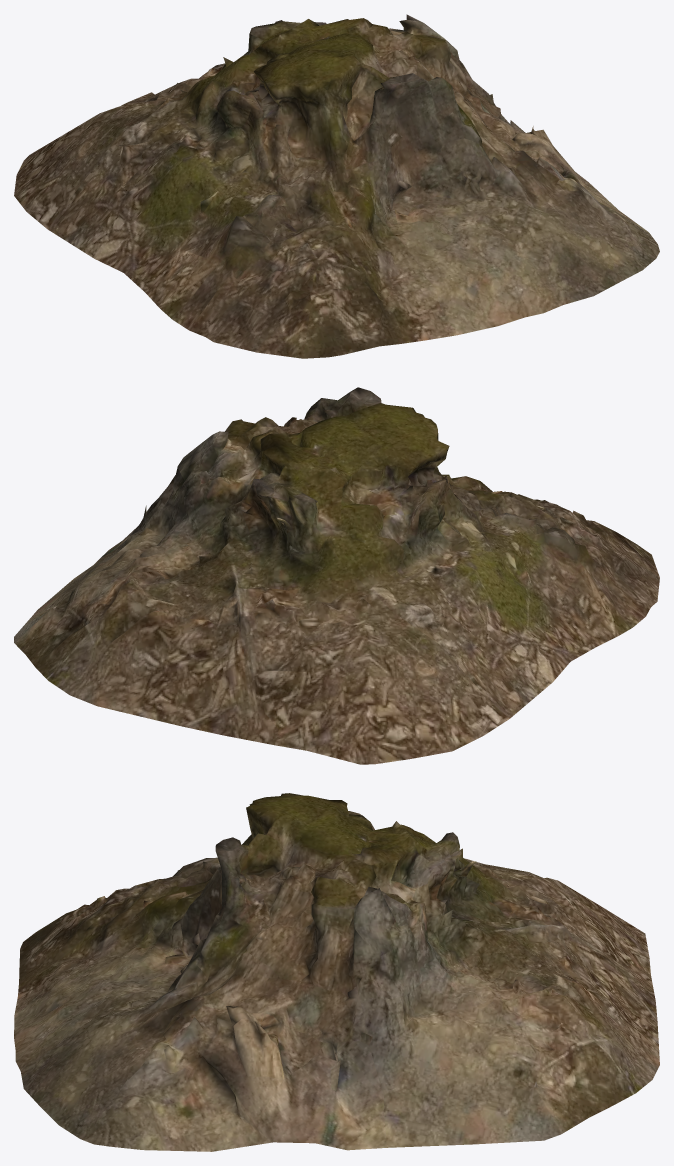
File: tree_stump_01.glb
3 renders of one model, top to bottom at view 1: azimuth 30°, elevation 25°; view 2: azimuth 150°, elevation 25°; view 3: azimuth 270°, elevation 25°, orthographic. The views are drawn at different scales.
Visible parts, largest first — view 1: tree_stump_01; view 2: tree_stump_01; view 3: tree_stump_01.
Part boxes in pixels (x1,y1,x2,y2): tree_stump_01: (14, 14, 659, 358); tree_stump_01: (14, 387, 659, 764); tree_stump_01: (14, 793, 659, 1151).
Size of the model in its own units: 1.43 by 0.571 by 1.59.
Materials: 1 (1 with a texture image).
